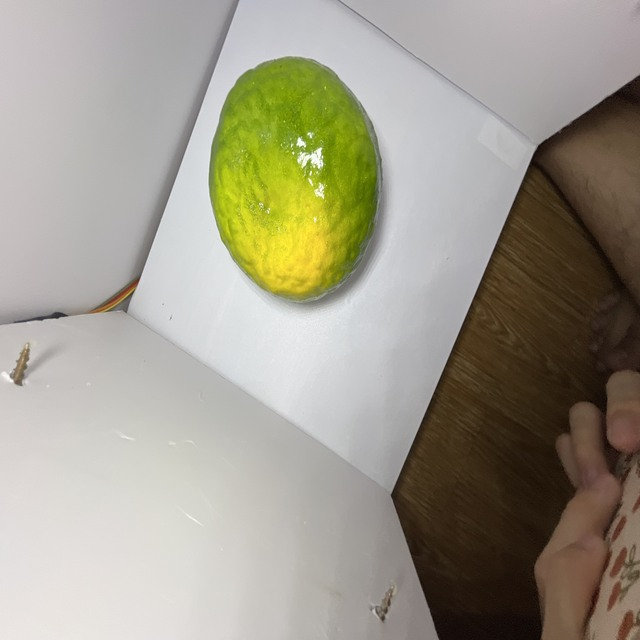Cam xanh: (205, 57, 390, 310)
